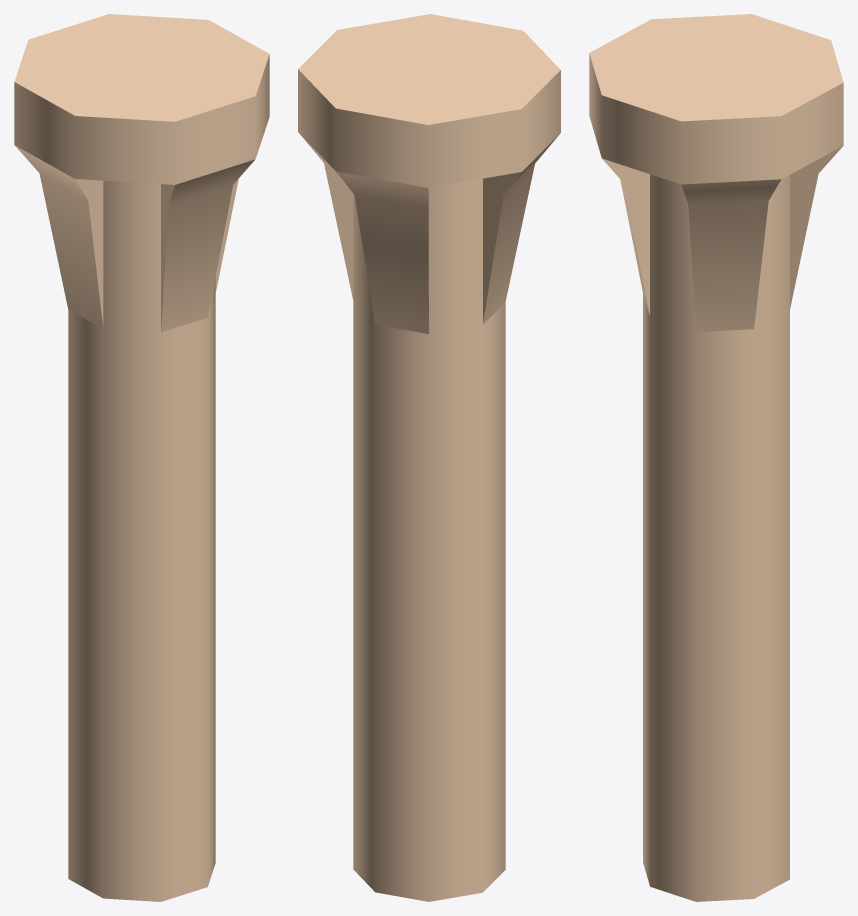
Rendered from PillarB.fbx.
3 renders of one model, left to right at view 1: azimuth 30°, elevation 25°; view 2: azimuth 150°, elevation 25°; view 3: azimuth 270°, elevation 25°, orthographic.
Visible parts, largest first — view 1: PillarB; view 2: PillarB; view 3: PillarB.
Boxes of the visible parts, x1,y1,x2,y2 form: PillarB: (14,14,269,901); PillarB: (298,14,560,901); PillarB: (589,14,843,901).
Size of the model in its own units: 493 by 1717 by 493.
